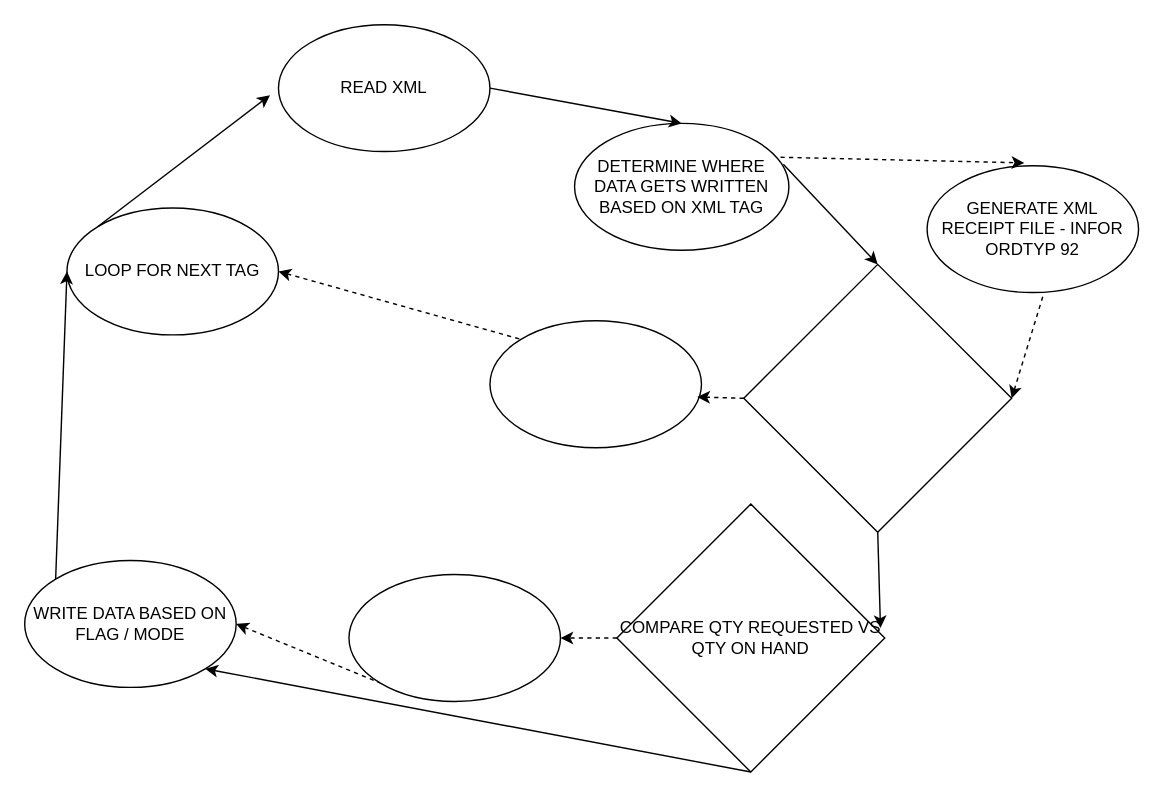
Some shapes in this 1163 by 808 pixel diagram are drawn without their labels. The centre of each missing label's shape, as x and y in pixels:
"ALLOCATE TO BACKLOG" belongs at point 454,637.
"CHECK FOR BAD DATA OR KNOWN EXCEPTIONS" belongs at point 877,397.
"REPORT ERROR" belongs at point 595,383.
